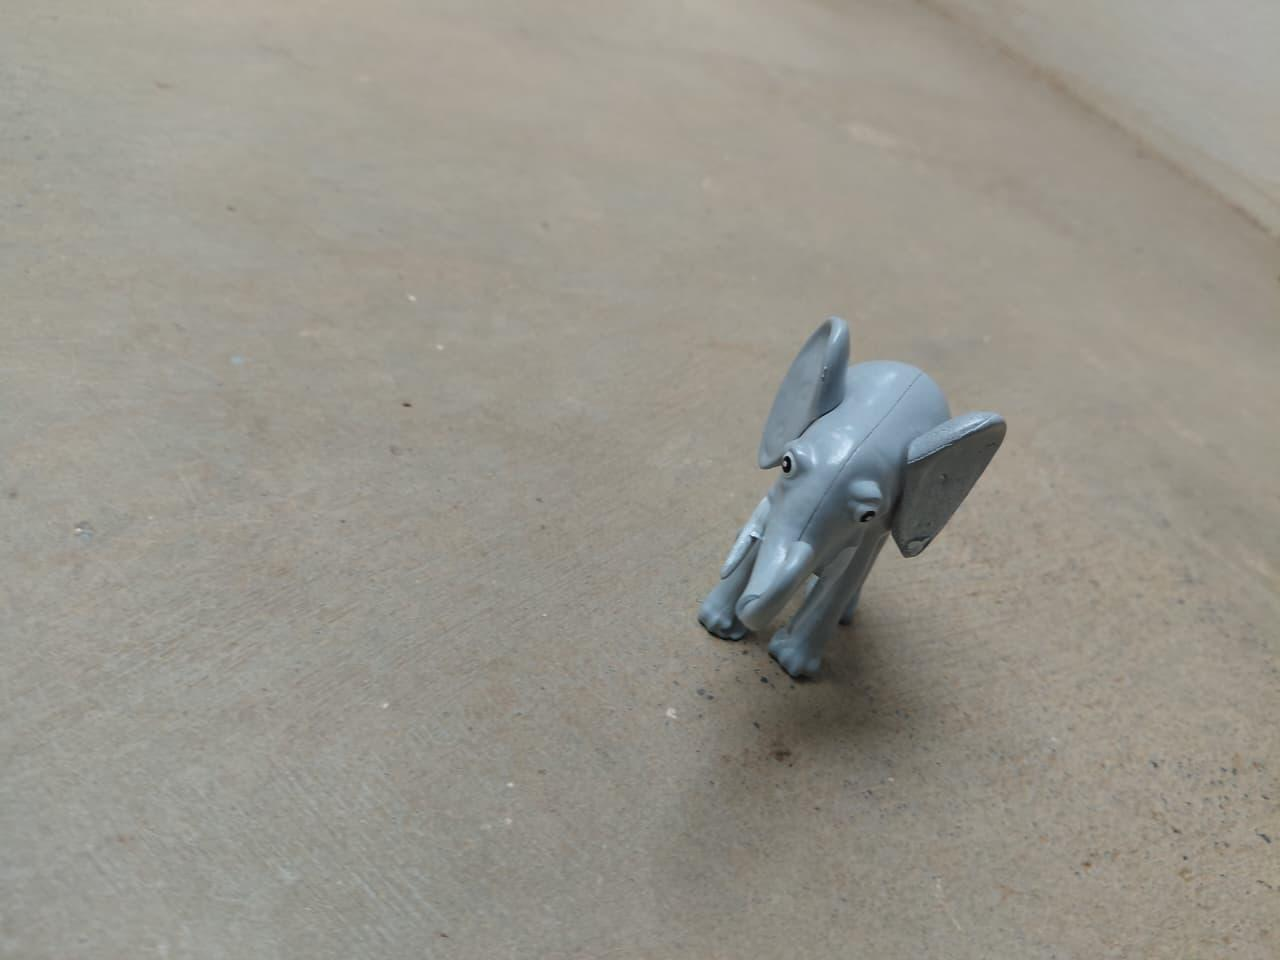elephant: (694, 292, 1013, 714)
